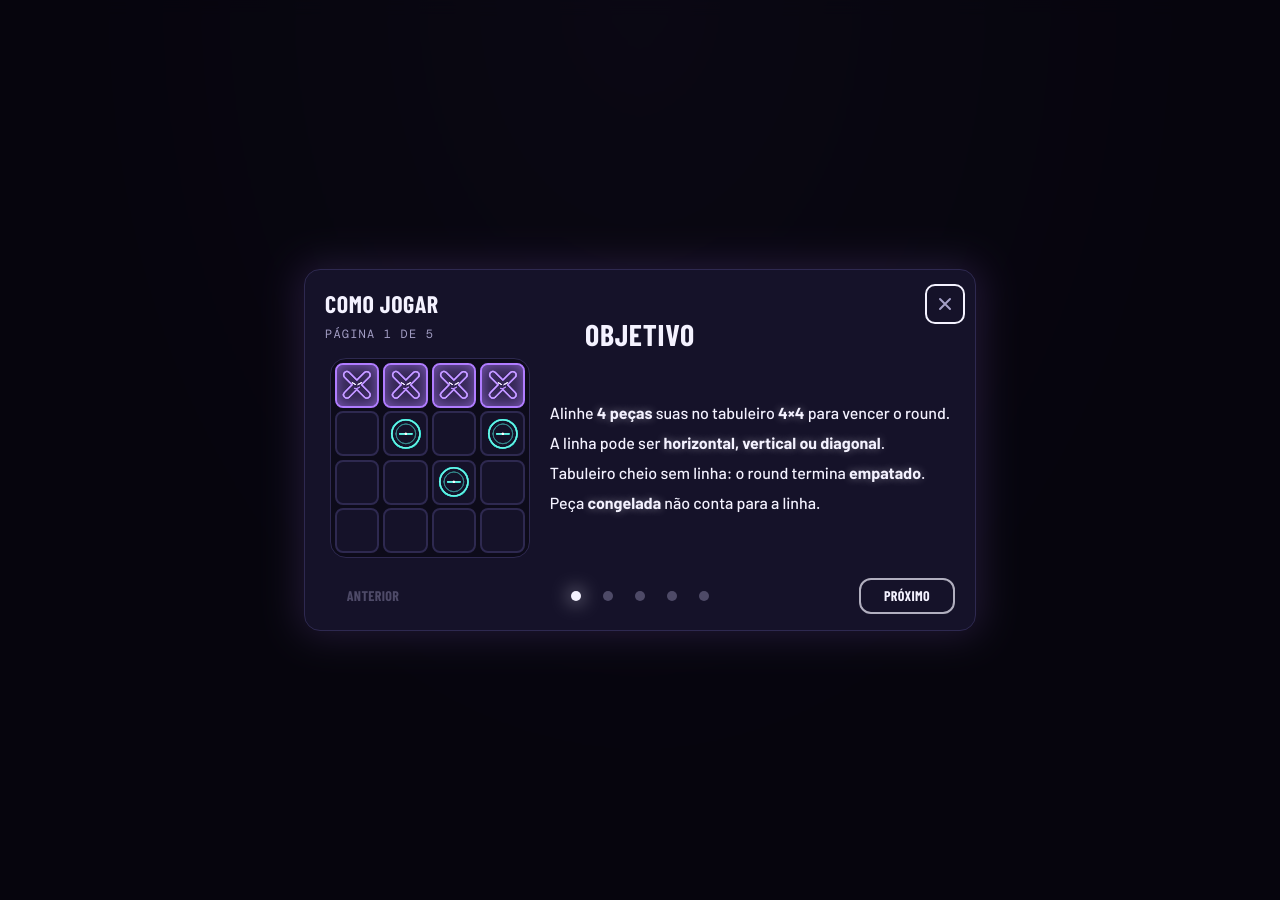
Test: HowToPlayModal — carrossel das habilidades › anda pelos botões ‹ › e pelos indicadores, sem passar das pontas
Step 1. Click the button named "Página 3 de 5: Habilidades" → (640, 596), box [624,580,656,612]
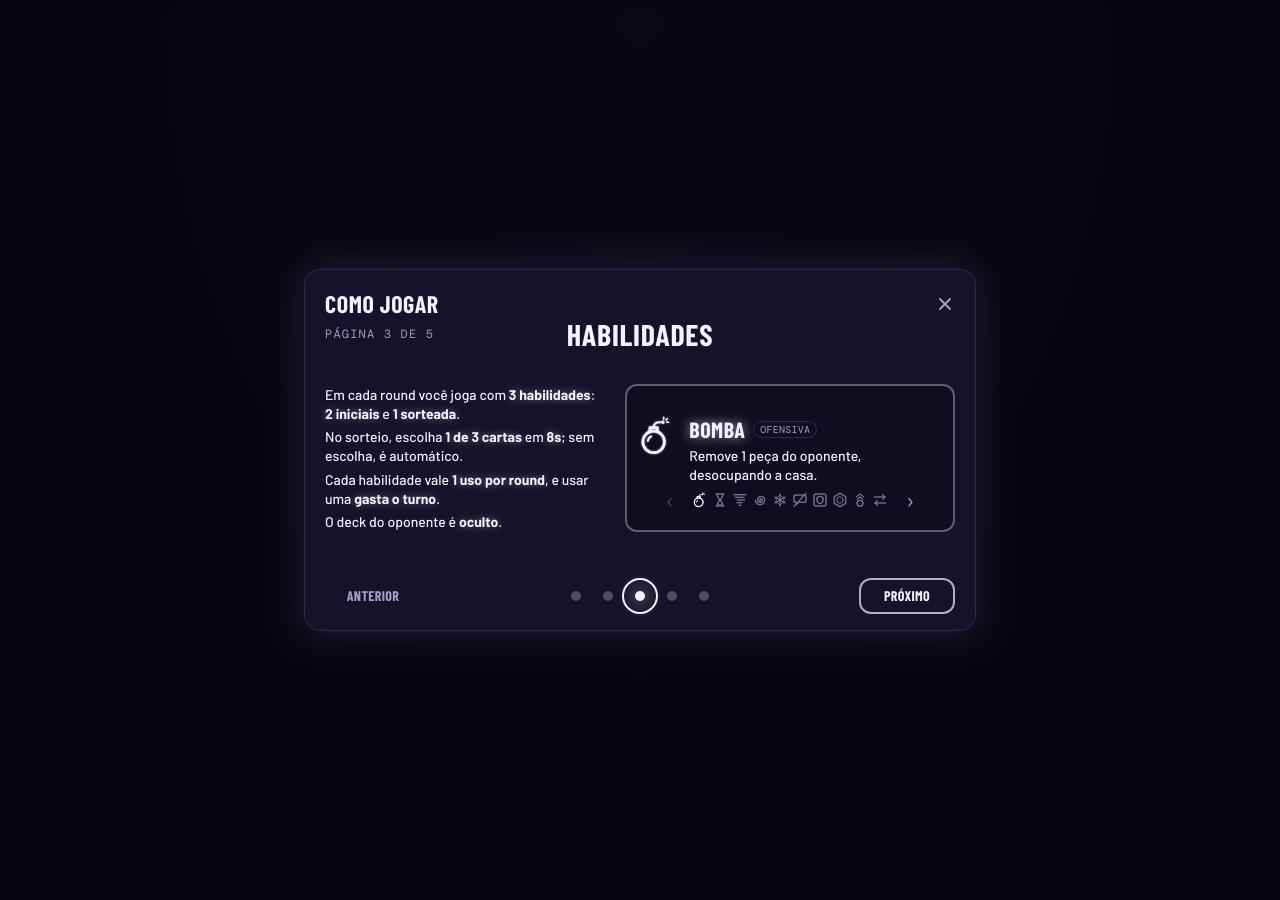
Step 2. Click the button named "Item anterior" → (670, 500), box [650,480,690,520]
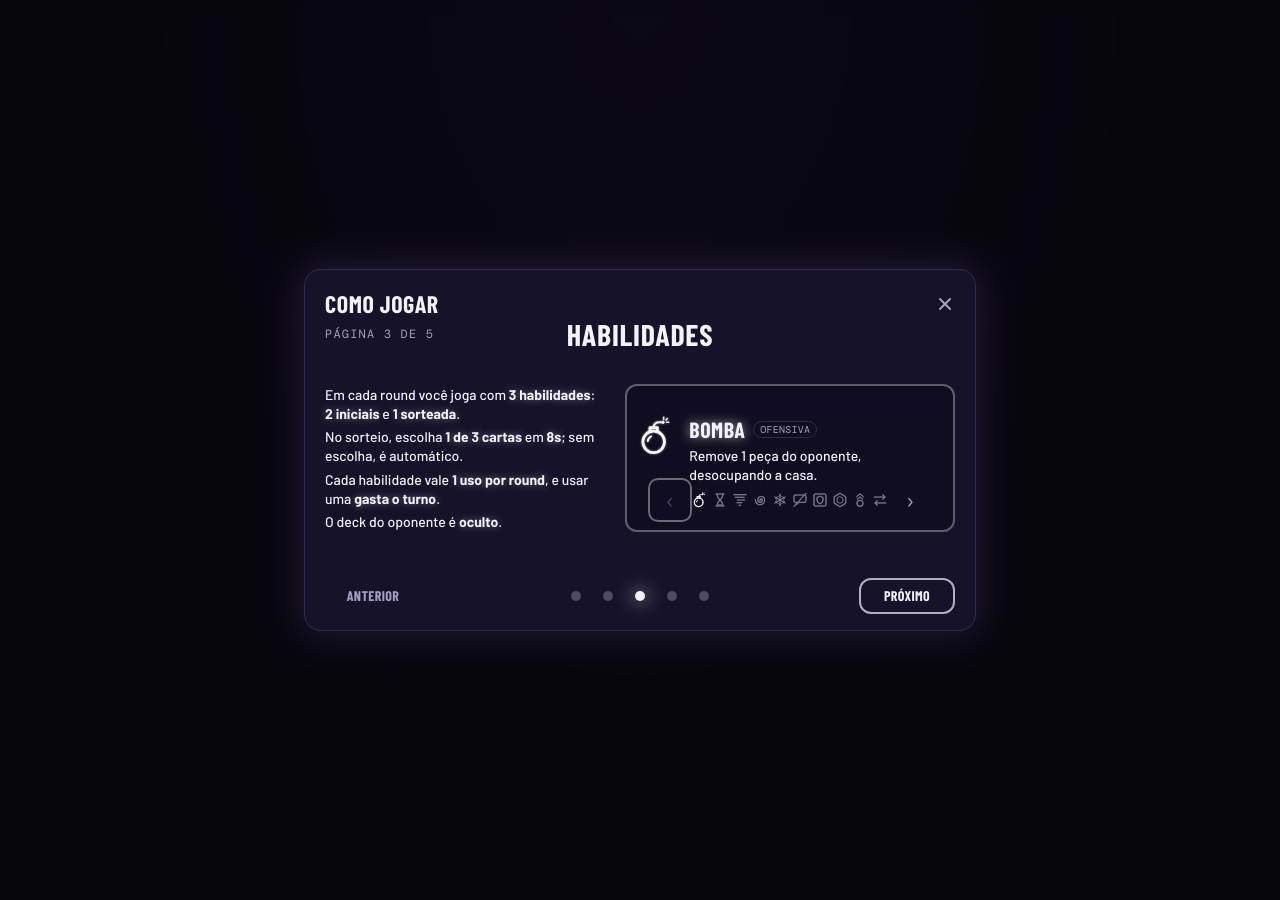
Check: the text "Bomba" is shown, box [689,416,745,444]
Step 3. Click the button named "Próximo item" → (910, 500), box [890,480,930,520]
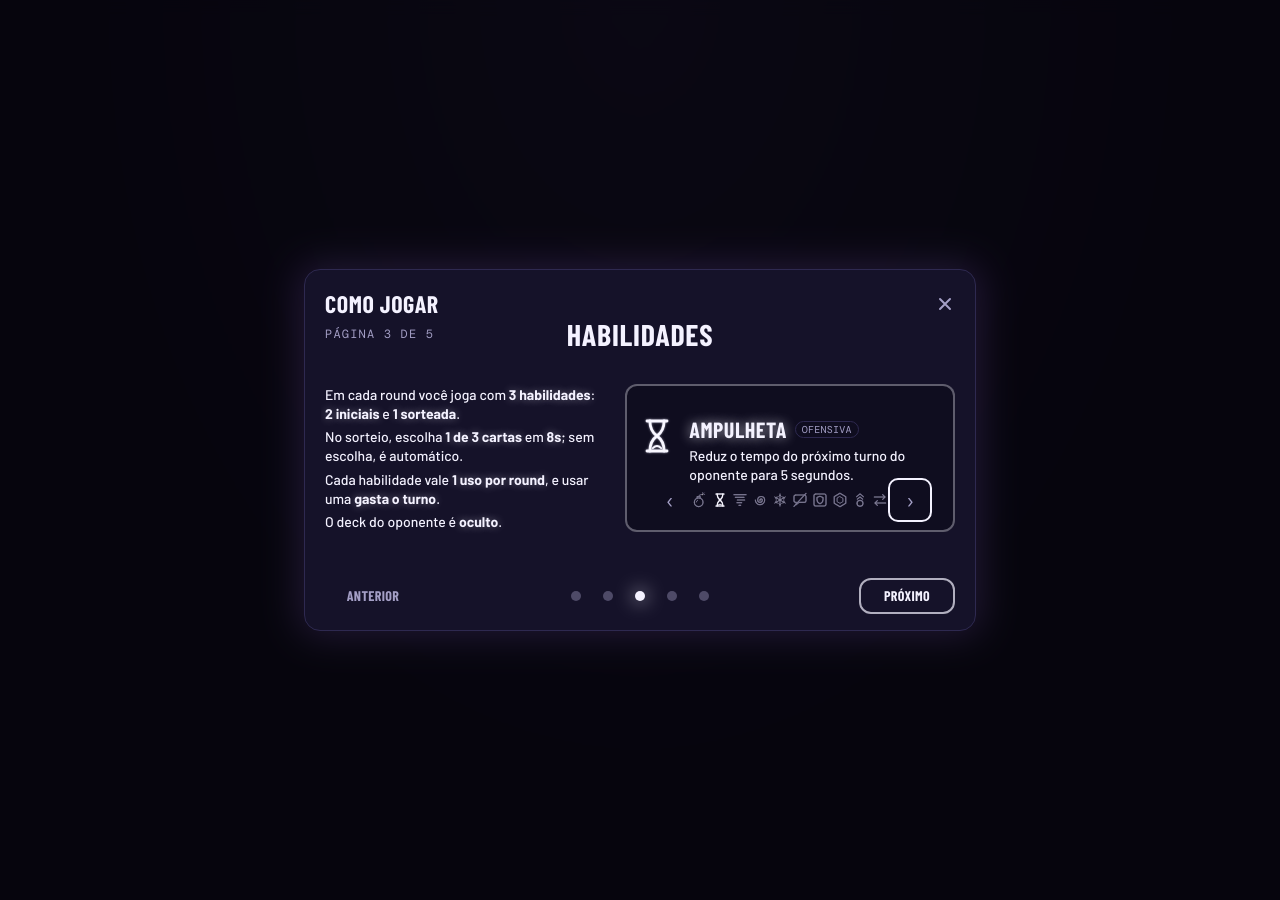
Check: the text "Ampulheta" is shown, box [689,416,787,444]
Step 4. Click the button named "Troca Rápida (10 de 10)" → (880, 500), box [870,490,890,510]
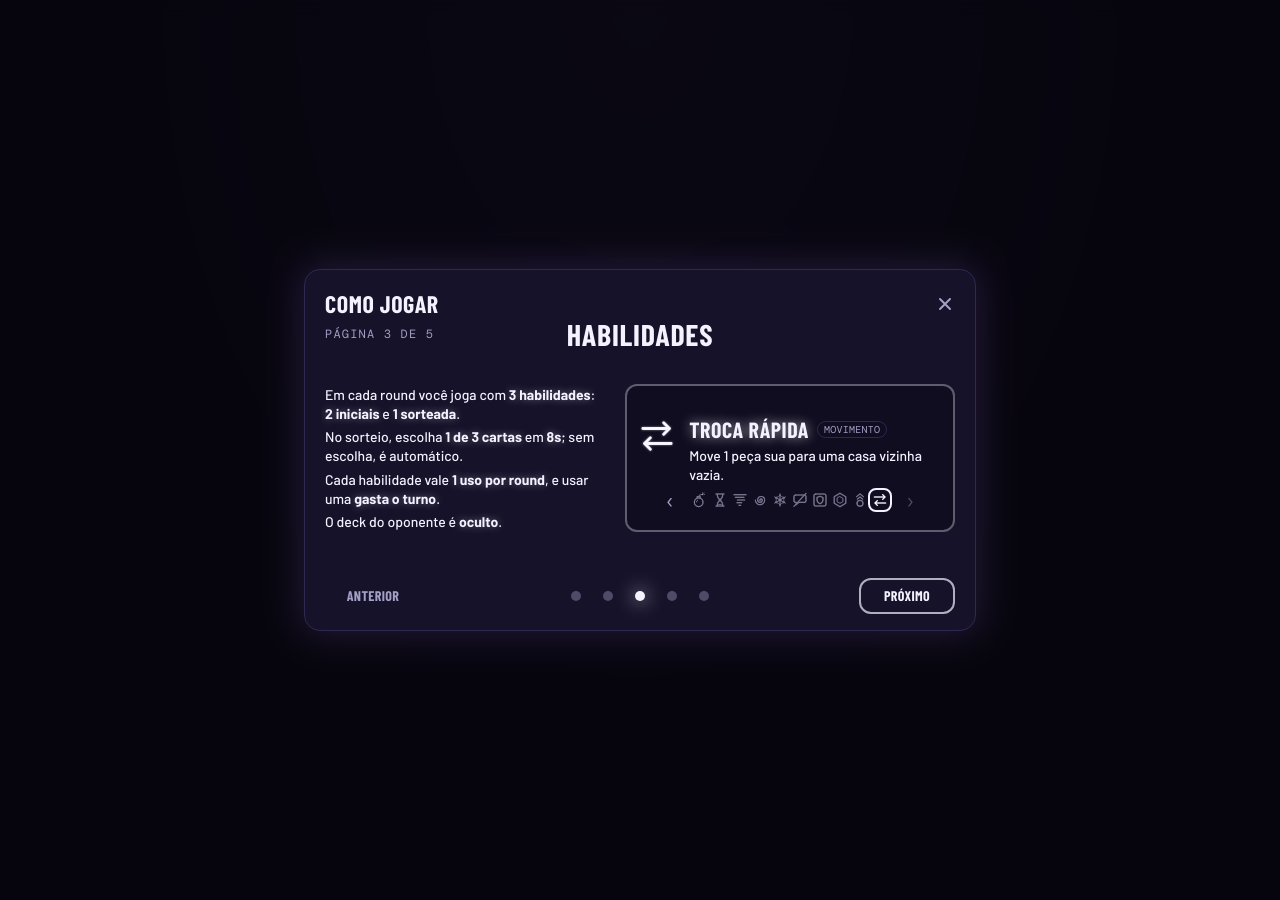
Check: the text "Troca Rápida" is shown, box [689,416,809,444]
